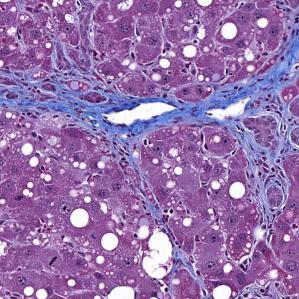fibrosis: (0, 54, 111, 129), (187, 75, 299, 128), (103, 87, 190, 144)
